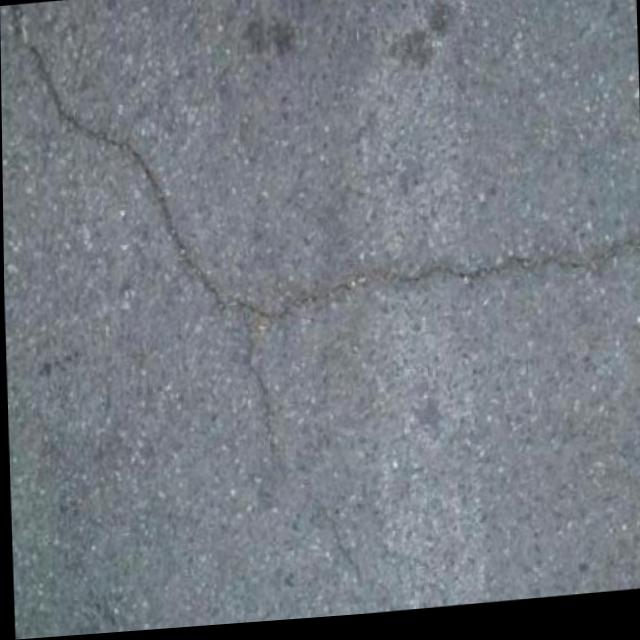Crack: (3, 0, 228, 342), (227, 210, 640, 350), (309, 477, 372, 604), (232, 322, 276, 499)
